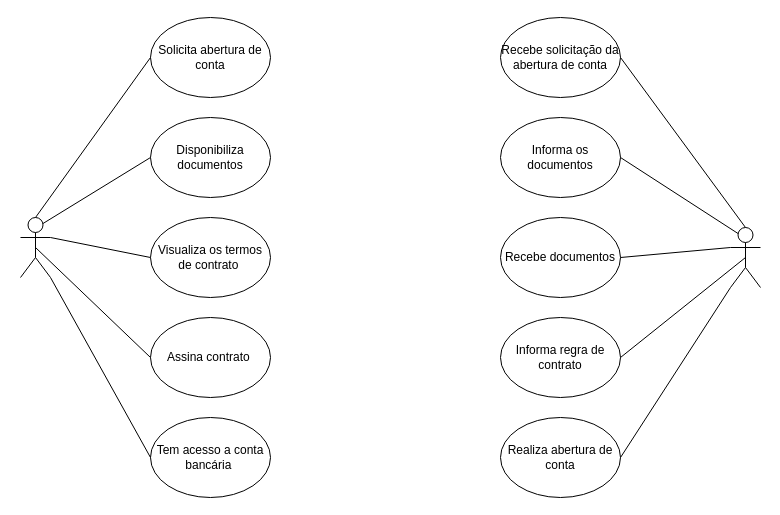
The diagram is 780 pixels wide and 515 high, and some of its shapes have lost their labels. Here are the shapes that lost their labels. From the top down, the centre of each, then its label:
At [35,247]: "Cliente".
At [745,257]: "Banco".
